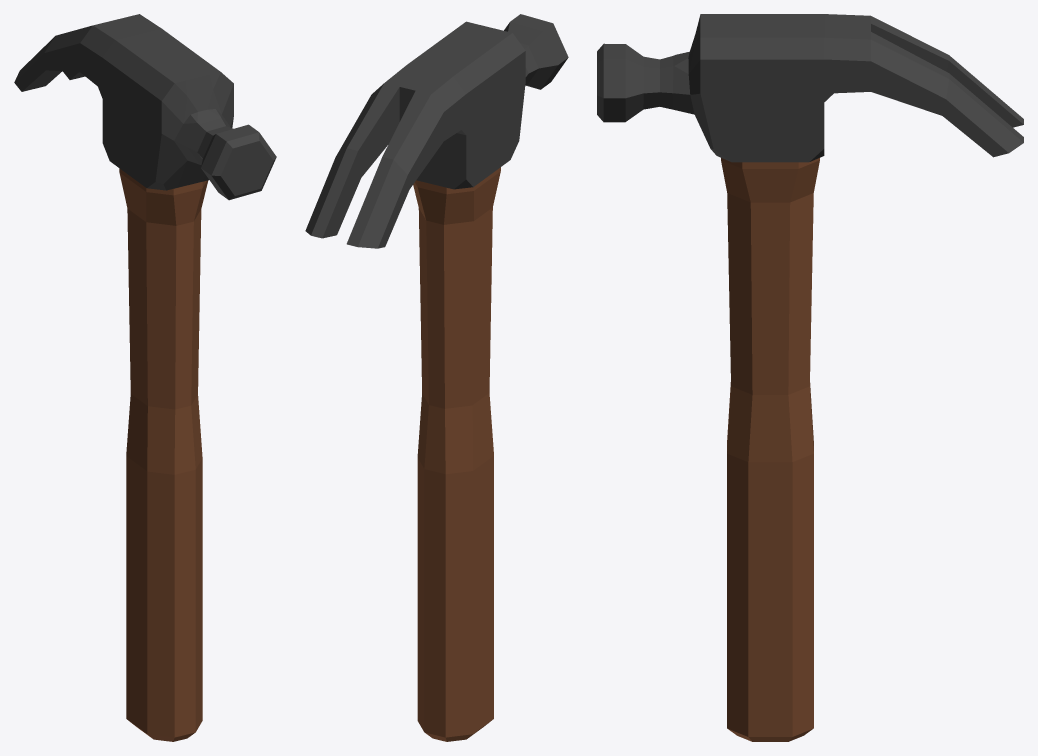
File: Hammer.obj
3 views of the same model, side by side, from view 1: azimuth 30°, elevation 25°; view 2: azimuth 150°, elevation 25°; view 3: azimuth 270°, elevation 25° (orthographic). The views are drawn at different scales.
Visible parts, largest first — view 1: Hammer_Cube; view 2: Hammer_Cube; view 3: Hammer_Cube.
Part boxes in pixels (box(x1,y1,x2,y2)): Hammer_Cube: box(14, 14, 276, 741); Hammer_Cube: box(305, 14, 568, 741); Hammer_Cube: box(597, 14, 1023, 741).
Bounding box in the file's own units: 0.0816 × 0.7292 × 0.3996.
